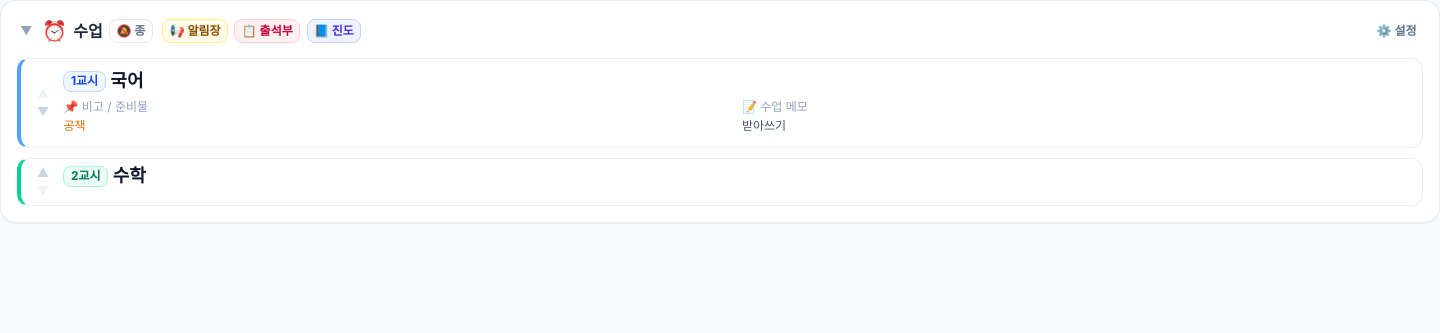
it: DaySchedule - 교시 항목 수정 › 교시 항목을 클릭하면 그 자리에서 수정이 열린다
Click the text "국어" at (127, 81), box [110, 70, 143, 92]
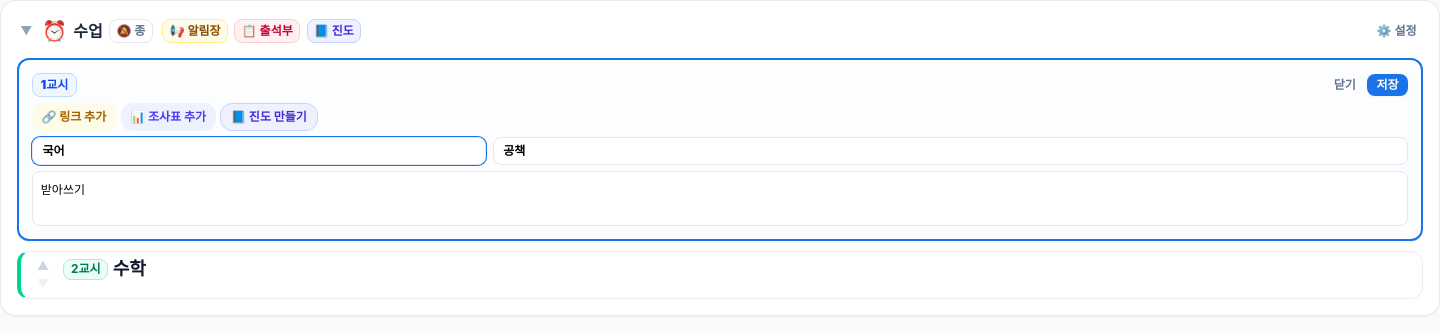
Result: the field showing "국어" is shown at [32, 137, 486, 165]
Result: the field showing "공책" is shown at [493, 137, 1408, 165]
Result: the text box showing "받아쓰기" is shown at [32, 171, 1408, 226]
